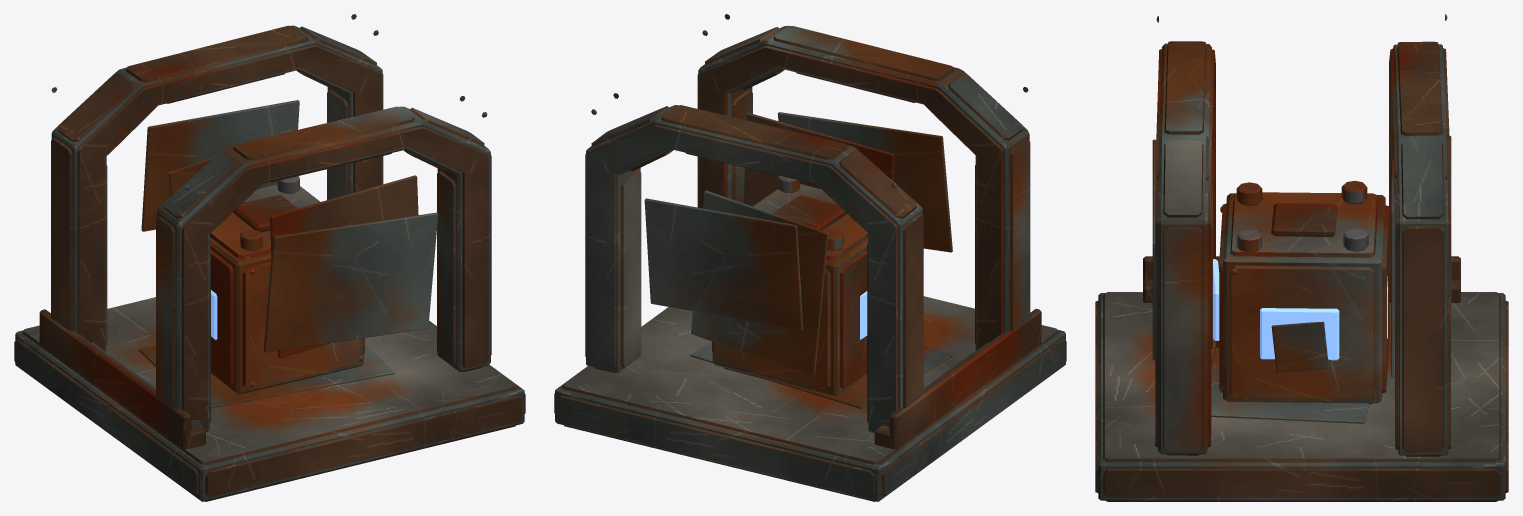
Rendered from R4X_ModuleDurabilityBooster.glb.
3 renders of one model, left to right at view 1: azimuth 30°, elevation 25°; view 2: azimuth 150°, elevation 25°; view 3: azimuth 270°, elevation 25°, orthographic. The views are drawn at different scales.
Visible parts, largest first — view 1: R4X_ModuleDurabilityBooster_Body; view 2: R4X_ModuleDurabilityBooster_Body; view 3: R4X_ModuleDurabilityBooster_Body.
Part boxes in pixels (box(x1,y1,x2,y2)): R4X_ModuleDurabilityBooster_Body: box(14, 14, 525, 501); R4X_ModuleDurabilityBooster_Body: box(554, 14, 1066, 501); R4X_ModuleDurabilityBooster_Body: box(1095, 14, 1508, 501).
Bounding box in the file's own units: 0.52 × 0.46 × 0.52.
Materials: 5 (4 with a texture image).
